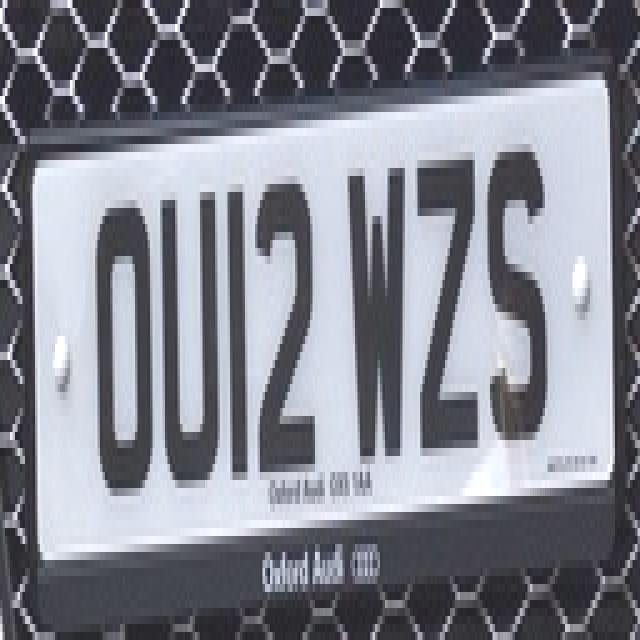licenseplate: (22, 39, 630, 634)
